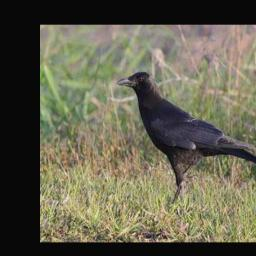Crow: (115, 70, 256, 208)
